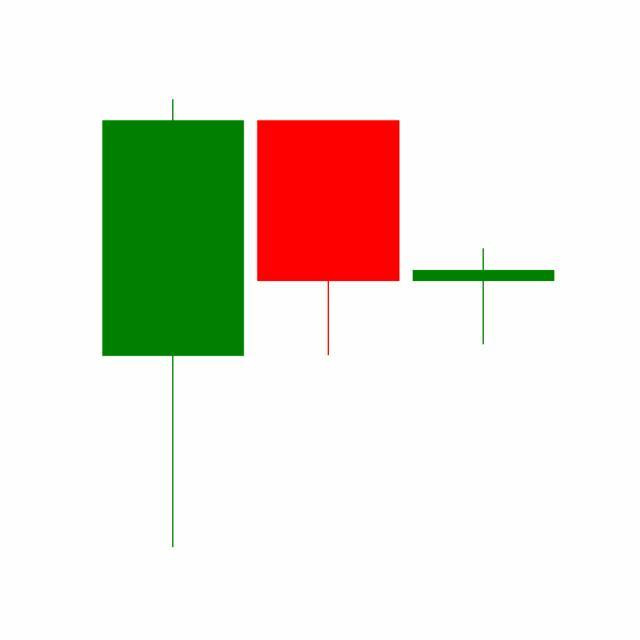Spinning Top: (406, 248, 562, 347)
